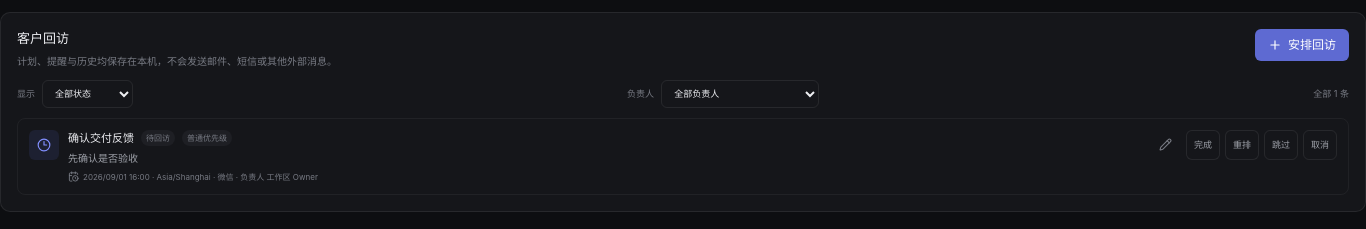
Scenario: ClientFollowupsSection › filters the client timeline through the existing paginated status query
Select "已完成" in the dropdown named "回访状态筛选": (88, 94) [42,80,133,108]
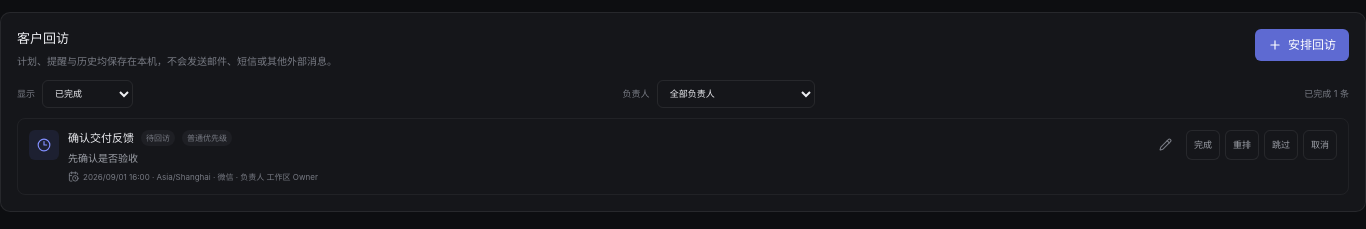
Result: the text "已完成 1 条" is shown at [1304,87,1349,100]
